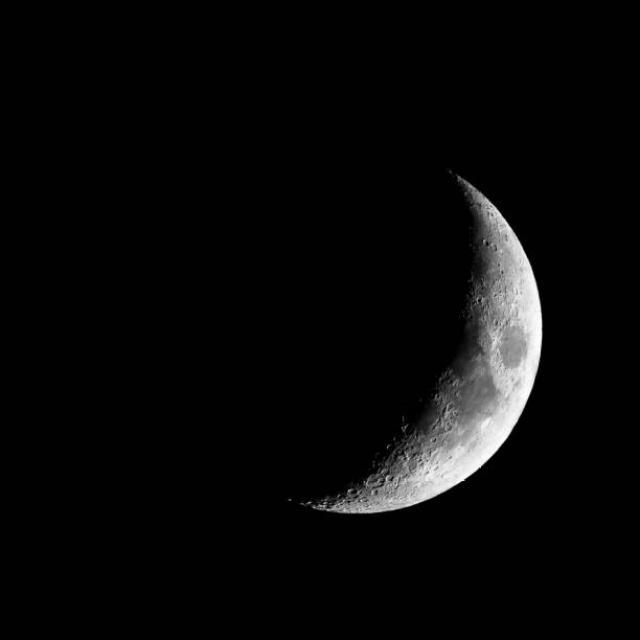moon: (135, 139, 540, 513)
